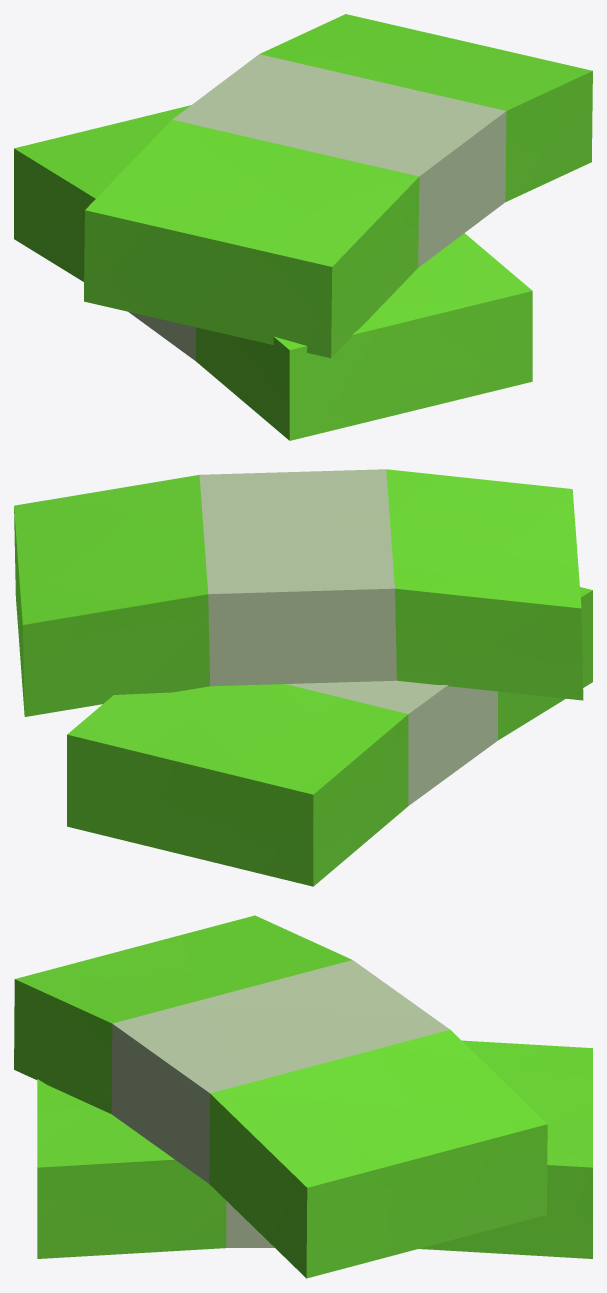
Rendered from anim_sellBuy.fbx.
The picture shows the model from 3 angles, top to bottom: view 1: azimuth 30°, elevation 25°; view 2: azimuth 150°, elevation 25°; view 3: azimuth 270°, elevation 25°; orthographic projection.
Visible parts, largest first — view 1: anim_sellBuy; view 2: anim_sellBuy; view 3: anim_sellBuy.
Boxes of the visible parts, x1=… form: anim_sellBuy: x1=14, y1=14, x2=592, y2=440; anim_sellBuy: x1=14, y1=469, x2=592, y2=886; anim_sellBuy: x1=14, y1=915, x2=592, y2=1278.
Bounding box in the file's own units: 431 × 152 × 401.
